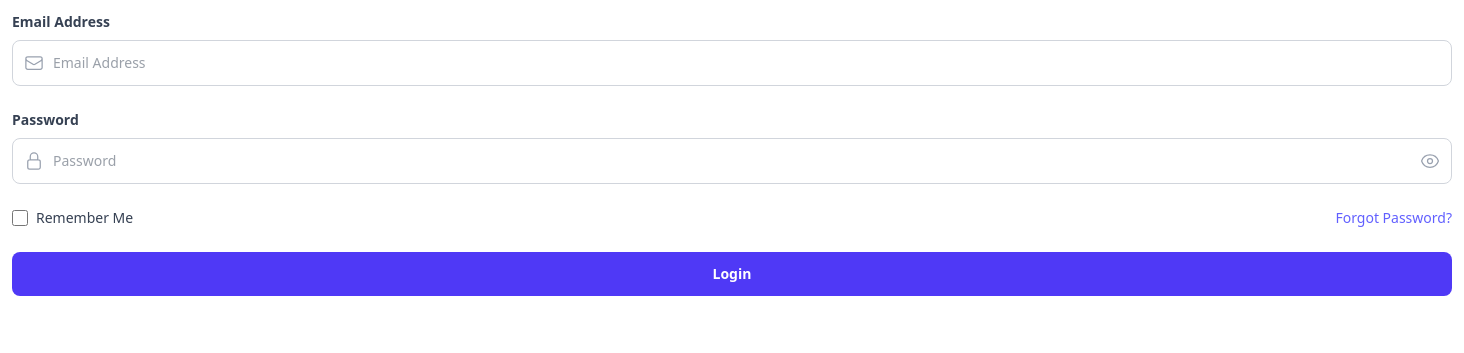
Scenario: LoginForm Component › should validate required fields
Click the button "Login" at [732, 274], box [12,252,1452,296]
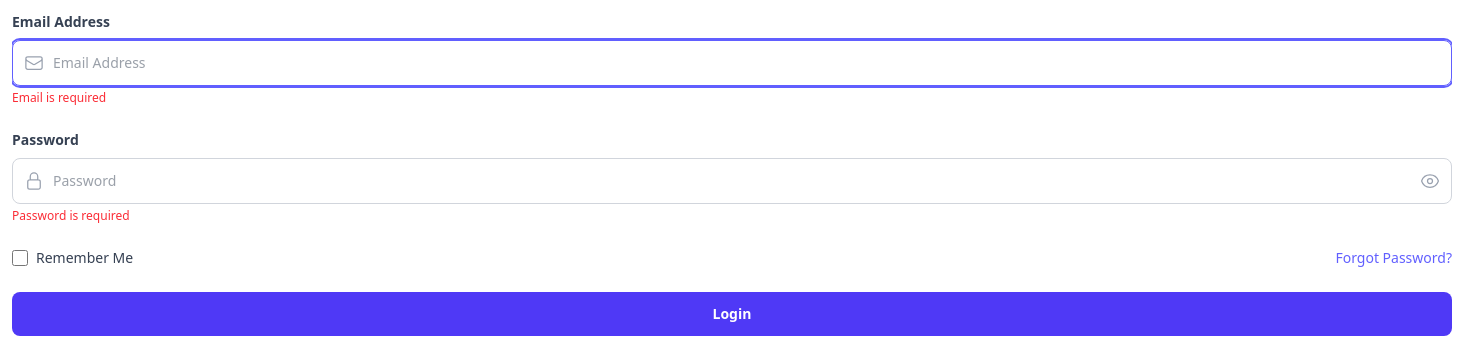
Now the text "Email is required" is shown, box [12,89,106,106]
Now the text "Password is required" is shown, box [12,207,130,224]
